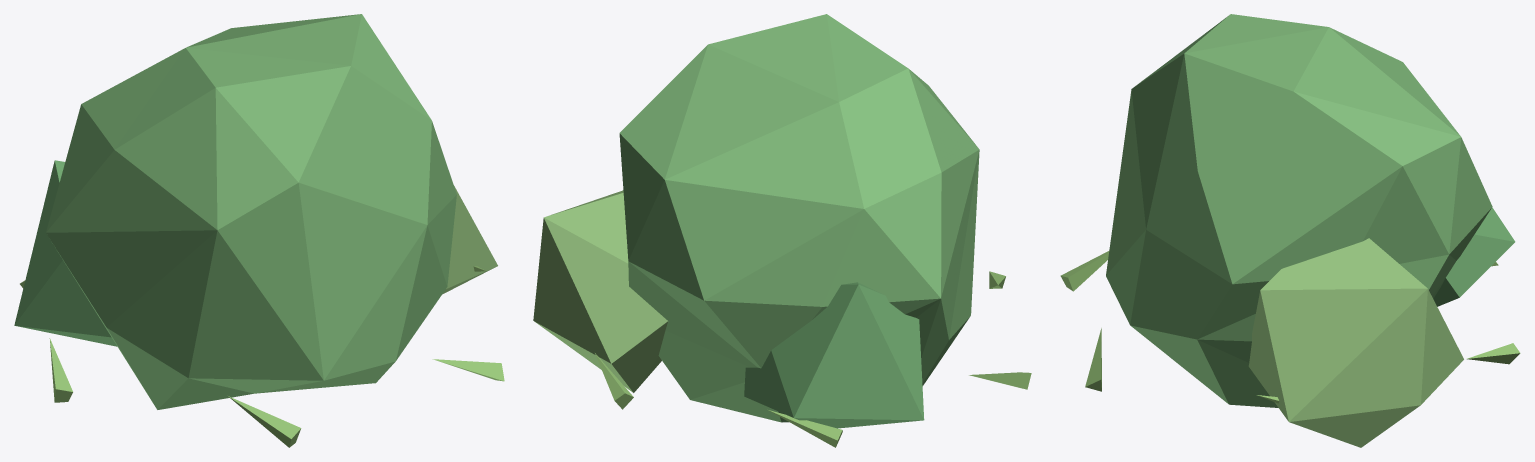
File: 50-Vegetacion_arbusto_redondo.glb
3 renders of one model, left to right at view 1: azimuth 30°, elevation 25°; view 2: azimuth 150°, elevation 25°; view 3: azimuth 270°, elevation 25°, orthographic. The views are drawn at different scales.
Parts seen in each view (by area): view 1: SM_Arbusto_M_Arbusto, SM_Arbusto_M_Arbusto_Oscuro, SM_Arbusto_M_Pasto_Base, SM_Arbusto_M_Arbusto_Claro; view 2: SM_Arbusto_M_Arbusto, SM_Arbusto_M_Arbusto_Oscuro, SM_Arbusto_M_Arbusto_Claro, SM_Arbusto_M_Pasto_Base; view 3: SM_Arbusto_M_Arbusto, SM_Arbusto_M_Arbusto_Claro, SM_Arbusto_M_Arbusto_Oscuro, SM_Arbusto_M_Pasto_Base.
Part boxes in pixels (bbox=[...]): SM_Arbusto_M_Arbusto: bbox=[46, 14, 456, 409]; SM_Arbusto_M_Arbusto_Oscuro: bbox=[14, 160, 117, 346]; SM_Arbusto_M_Pasto_Base: bbox=[20, 266, 504, 447]; SM_Arbusto_M_Arbusto_Claro: bbox=[442, 186, 497, 294]; SM_Arbusto_M_Arbusto: bbox=[619, 14, 979, 422]; SM_Arbusto_M_Arbusto_Oscuro: bbox=[744, 282, 924, 428]; SM_Arbusto_M_Arbusto_Claro: bbox=[533, 190, 667, 392]; SM_Arbusto_M_Pasto_Base: bbox=[595, 271, 1031, 447]; SM_Arbusto_M_Arbusto: bbox=[1106, 14, 1492, 407]; SM_Arbusto_M_Arbusto_Claro: bbox=[1248, 238, 1463, 447]; SM_Arbusto_M_Arbusto_Oscuro: bbox=[1433, 207, 1515, 306]; SM_Arbusto_M_Pasto_Base: bbox=[1060, 251, 1520, 403].
Size of the model in its own units: 2.23 by 1.68 by 2.04.
